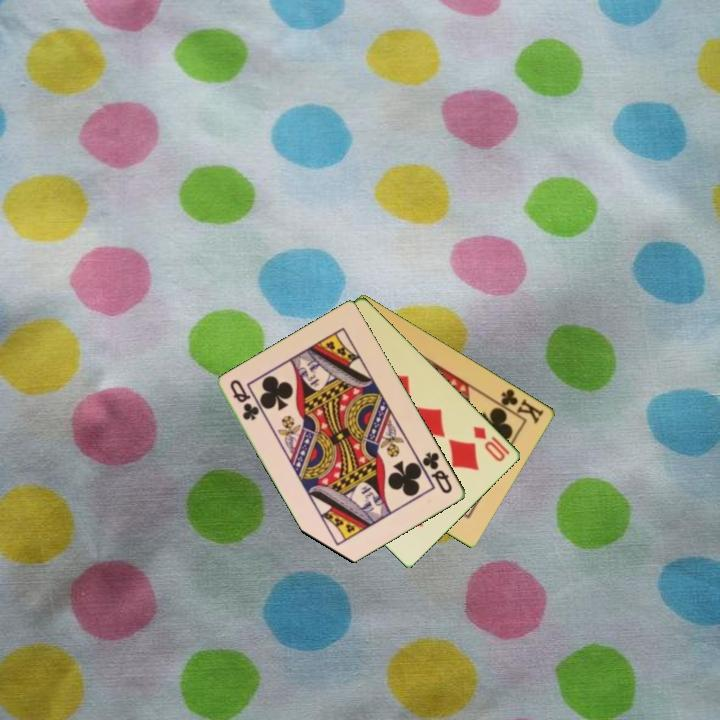10d: (470, 423, 513, 465)
Kc: (492, 385, 547, 426)
Qc: (419, 448, 456, 497), (227, 376, 262, 424)
